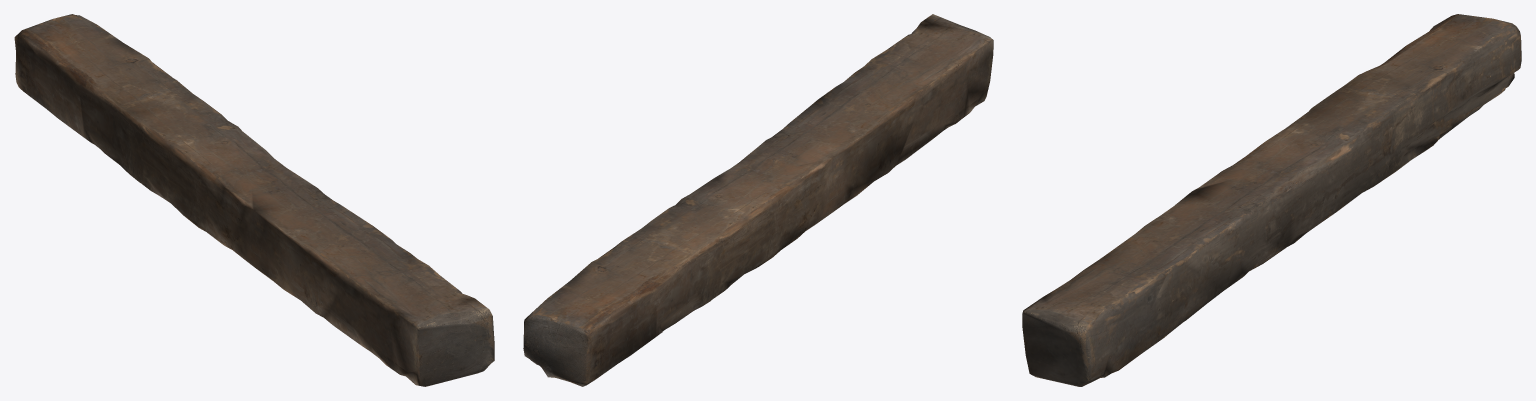
File: Wooden_plank_v2_LOD2.fbx
3 renders of one model, left to right at view 1: azimuth 30°, elevation 25°; view 2: azimuth 150°, elevation 25°; view 3: azimuth 330°, elevation 25°, orthographic. The views are drawn at different scales.
Visible parts, largest first — view 1: Wooden_plnaksv2_LOD2; view 2: Wooden_plnaksv2_LOD2; view 3: Wooden_plnaksv2_LOD2.
Boxes of the visible parts, x1=… form: Wooden_plnaksv2_LOD2: x1=14, y1=14, x2=494, y2=386; Wooden_plnaksv2_LOD2: x1=523, y1=14, x2=993, y2=386; Wooden_plnaksv2_LOD2: x1=1022, y1=14, x2=1521, y2=386.
Size of the model in its own units: 10.68 by 9.49 by 98.92.
